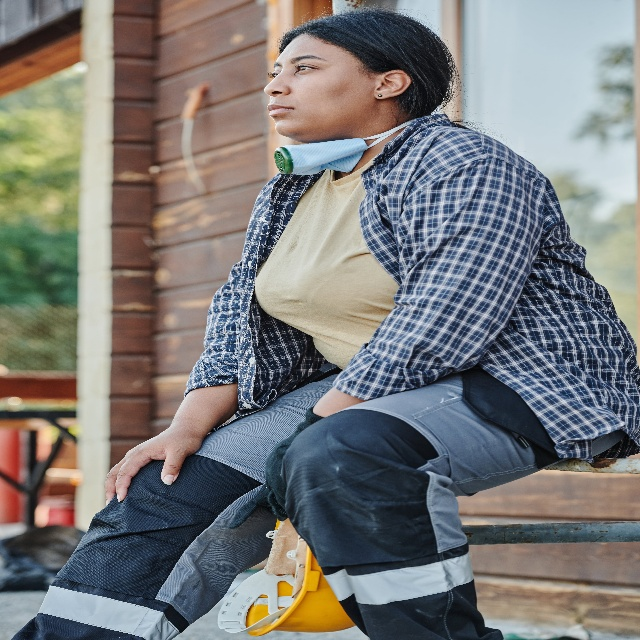Guantes: (230, 407, 323, 530)
Mascara: (274, 120, 413, 175)
Sin_guantes: (104, 419, 202, 507)
